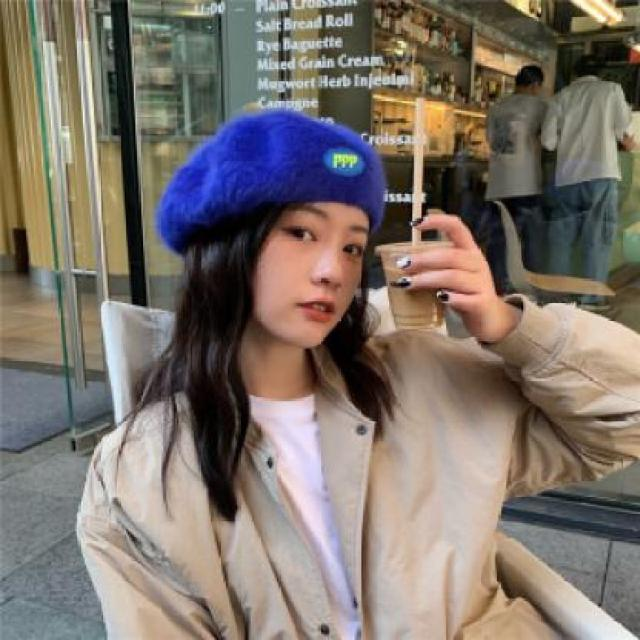hat: (155, 108, 387, 238)
